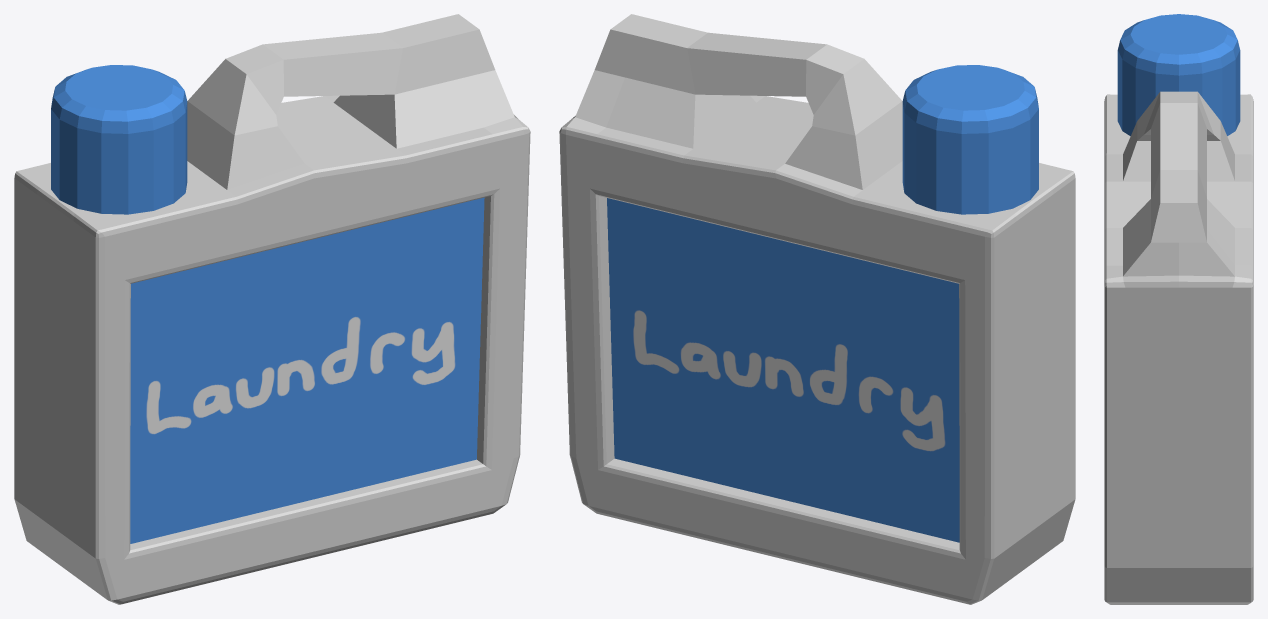
File: laundry_detergent_v1.fbx
3 renders of one model, left to right at view 1: azimuth 30°, elevation 25°; view 2: azimuth 150°, elevation 25°; view 3: azimuth 270°, elevation 25°, orthographic. The views are drawn at different scales.
Visible parts, largest first — view 1: Cube; view 2: Cube; view 3: Cube.
Part boxes in pixels (box(x1,y1,x2,y2)): Cube: box(14, 14, 530, 604); Cube: box(559, 14, 1075, 604); Cube: box(1104, 14, 1253, 604).
Size of the model in its own units: 463 by 488 by 155.
3 materials, 1 textured.
